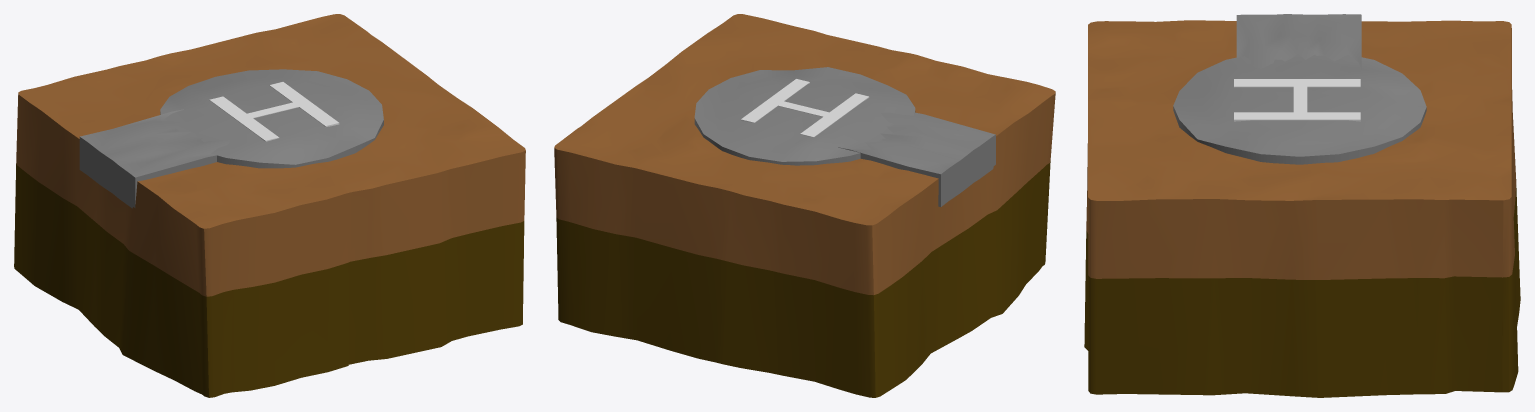
The picture shows the model from 3 angles, left to right: view 1: azimuth 30°, elevation 25°; view 2: azimuth 150°, elevation 25°; view 3: azimuth 270°, elevation 25°; orthographic projection. The views are drawn at different scales.
Parts seen in each view (by area): view 1: ground1, pCylinder3, pPlane9, typeMesh1; view 2: ground1, pCylinder3, pPlane9, typeMesh1; view 3: ground1, pCylinder3, pPlane9, typeMesh1.
Boxes of the visible parts, x1=… form: ground1: x1=14, y1=14, x2=525, y2=397; pCylinder3: x1=160, y1=69, x2=383, y2=168; pPlane9: x1=79, y1=109, x2=229, y2=208; typeMesh1: x1=209, y1=82, x2=339, y2=141; ground1: x1=554, y1=14, x2=1055, y2=397; pCylinder3: x1=694, y1=67, x2=915, y2=165; pPlane9: x1=838, y1=112, x2=995, y2=206; typeMesh1: x1=741, y1=79, x2=869, y2=137; ground1: x1=1084, y1=20, x2=1520, y2=397; pCylinder3: x1=1173, y1=53, x2=1426, y2=164; pPlane9: x1=1236, y1=14, x2=1361, y2=69; typeMesh1: x1=1234, y1=79, x2=1360, y2=121.
Size of the model in its own units: 20.78 by 10.72 by 20.34.
